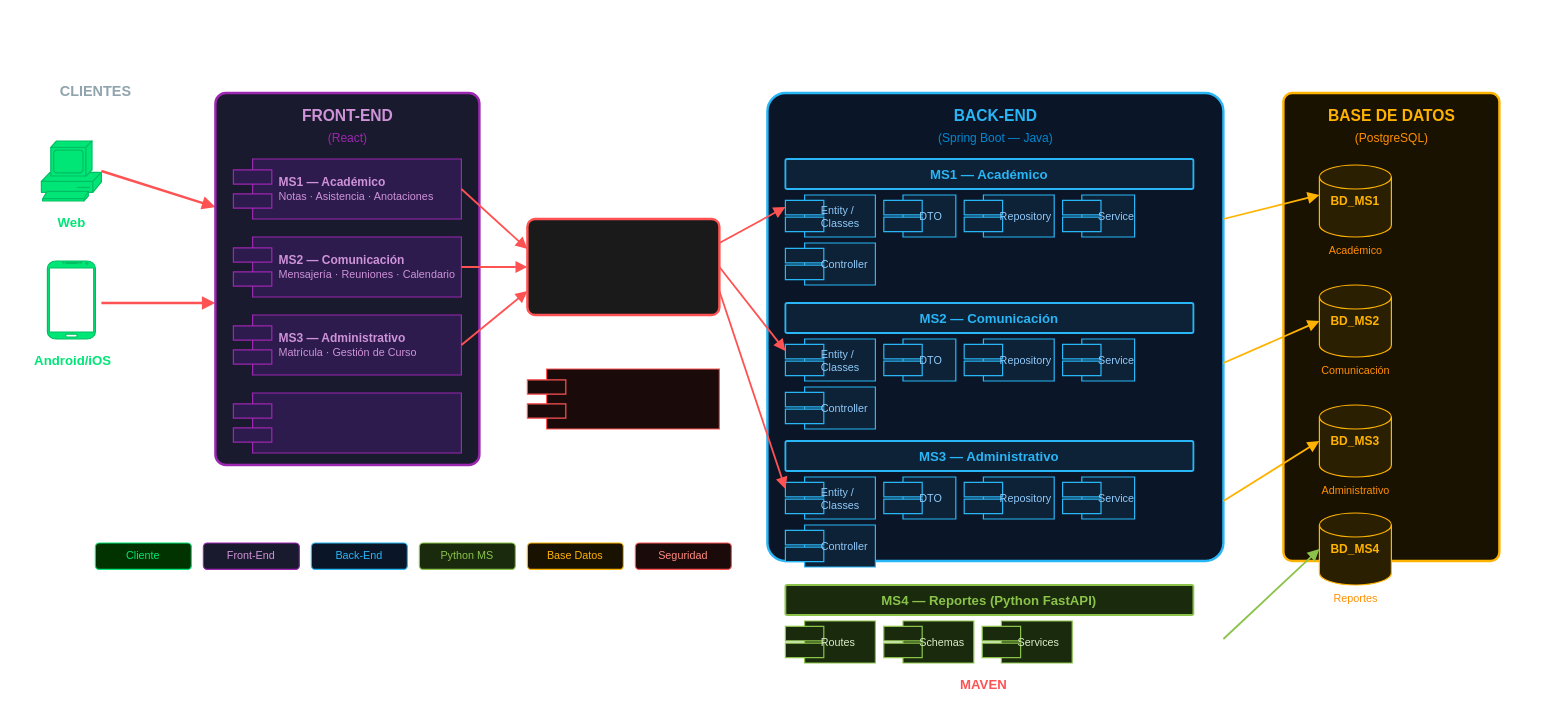
Some shapes in this 1555 by 713 pixel diagram are drawn without their labels. Here are the shapes that lost their labels. From the top down, the box of each, then its label:
(526, 217, 720, 316): RESTful / API-REST HTTP 1.1 GET · POST · PUT · DELETE
(526, 368, 719, 429): Spring Security + JWT Autenticación · RBAC
(232, 392, 461, 453): MS4 — Reportes Estadísticas · Exportaciones
